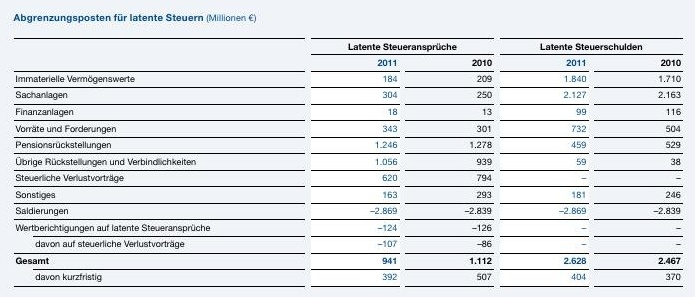table: (0, 0, 695, 297)
